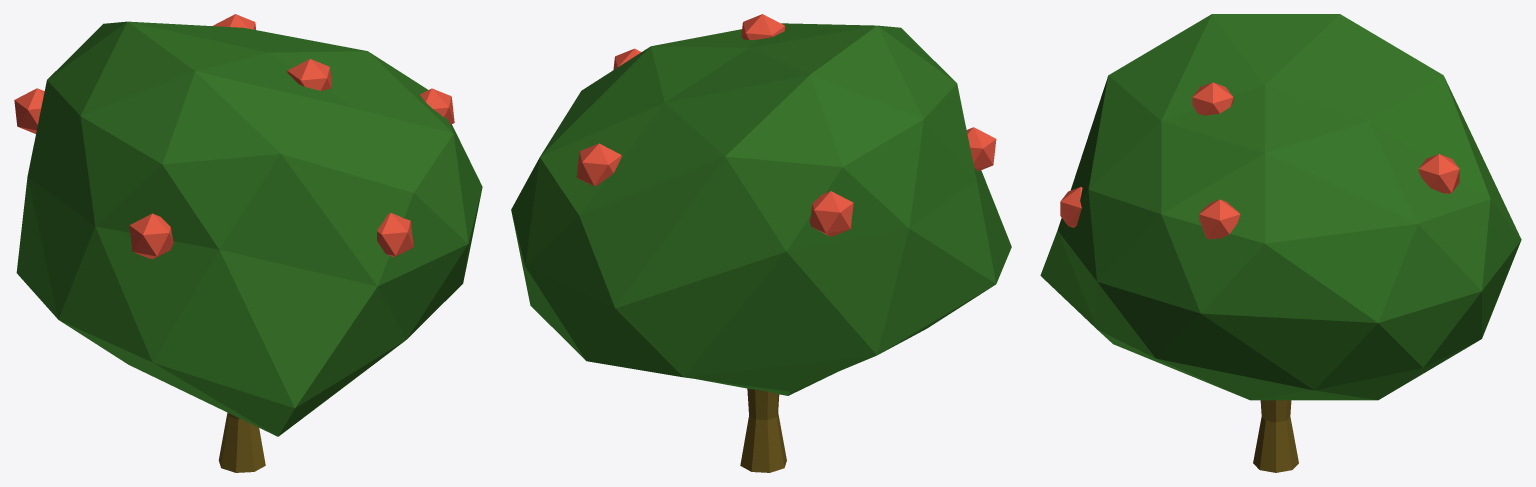
The model's file is bush.glb.
3 renders of one model, left to right at view 1: azimuth 30°, elevation 25°; view 2: azimuth 150°, elevation 25°; view 3: azimuth 270°, elevation 25°, orthographic. The views are drawn at different scales.
Visible parts, largest first — view 1: Bush3.2; view 2: Bush3.2; view 3: Bush3.2.
Boxes of the visible parts, left/top/right/bottom form: Bush3.2: left=14, top=14, right=482, bottom=472; Bush3.2: left=511, top=14, right=1011, bottom=472; Bush3.2: left=1040, top=14, right=1521, bottom=472.
Size of the model in its own units: 2.12 by 2.16 by 2.29.
